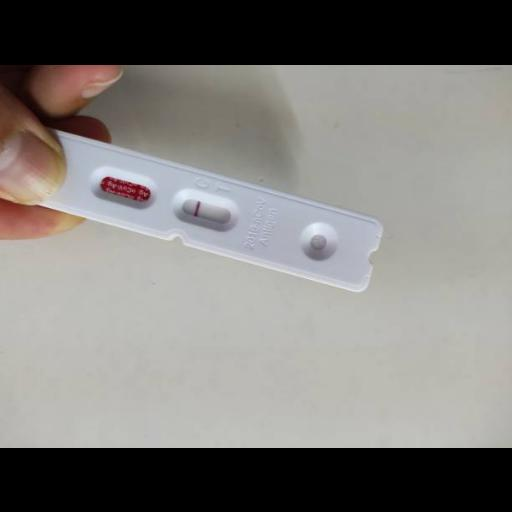Neg: (58, 135, 384, 294)
